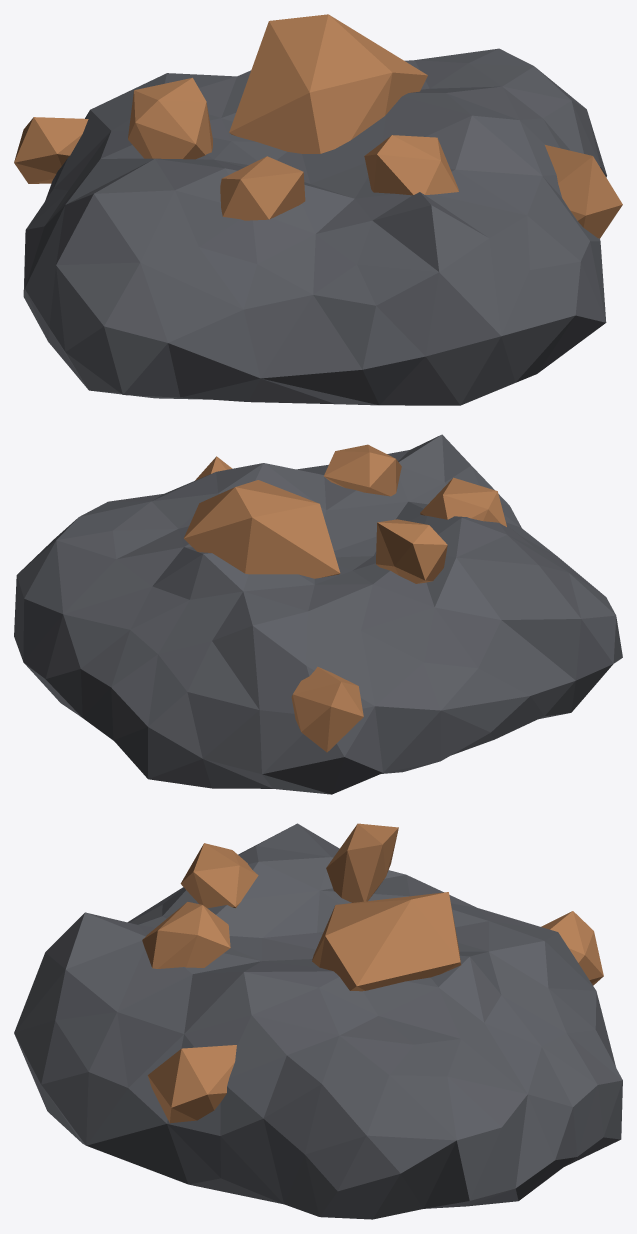
Rendered from IronMine_v2.fbx.
3 renders of one model, top to bottom at view 1: azimuth 30°, elevation 25°; view 2: azimuth 150°, elevation 25°; view 3: azimuth 270°, elevation 25°, orthographic. The views are drawn at different scales.
Visible parts, largest first — view 1: Icosphere, Icosphere.007; view 2: Icosphere, Icosphere.007; view 3: Icosphere, Icosphere.007.
Boxes of the visible parts, x1=… form: Icosphere: x1=23, y1=48, x2=606, y2=405; Icosphere.007: x1=14, y1=14, x2=622, y2=238; Icosphere: x1=14, y1=434, x2=622, y2=794; Icosphere.007: x1=183, y1=444, x2=506, y2=752; Icosphere: x1=14, y1=823, x2=622, y2=1219; Icosphere.007: x1=142, y1=823, x2=603, y2=1123.
Size of the model in its own units: 1042 by 476 by 969.
2 materials, 2 textured.
